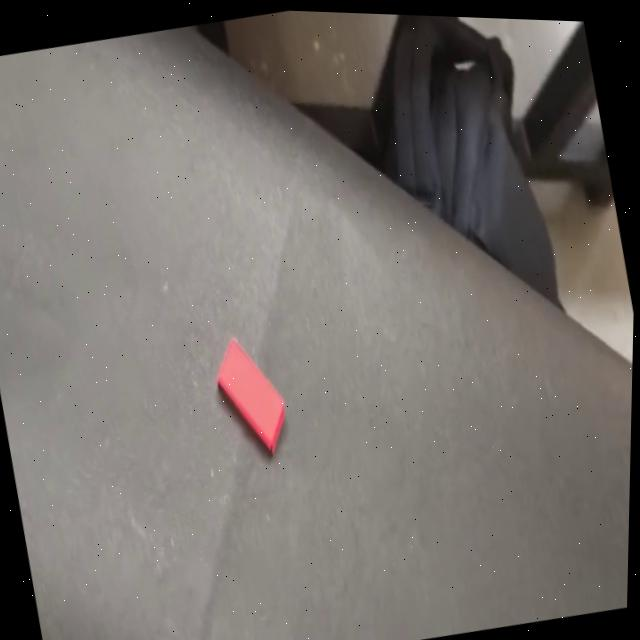red block: (207, 330, 297, 465)
